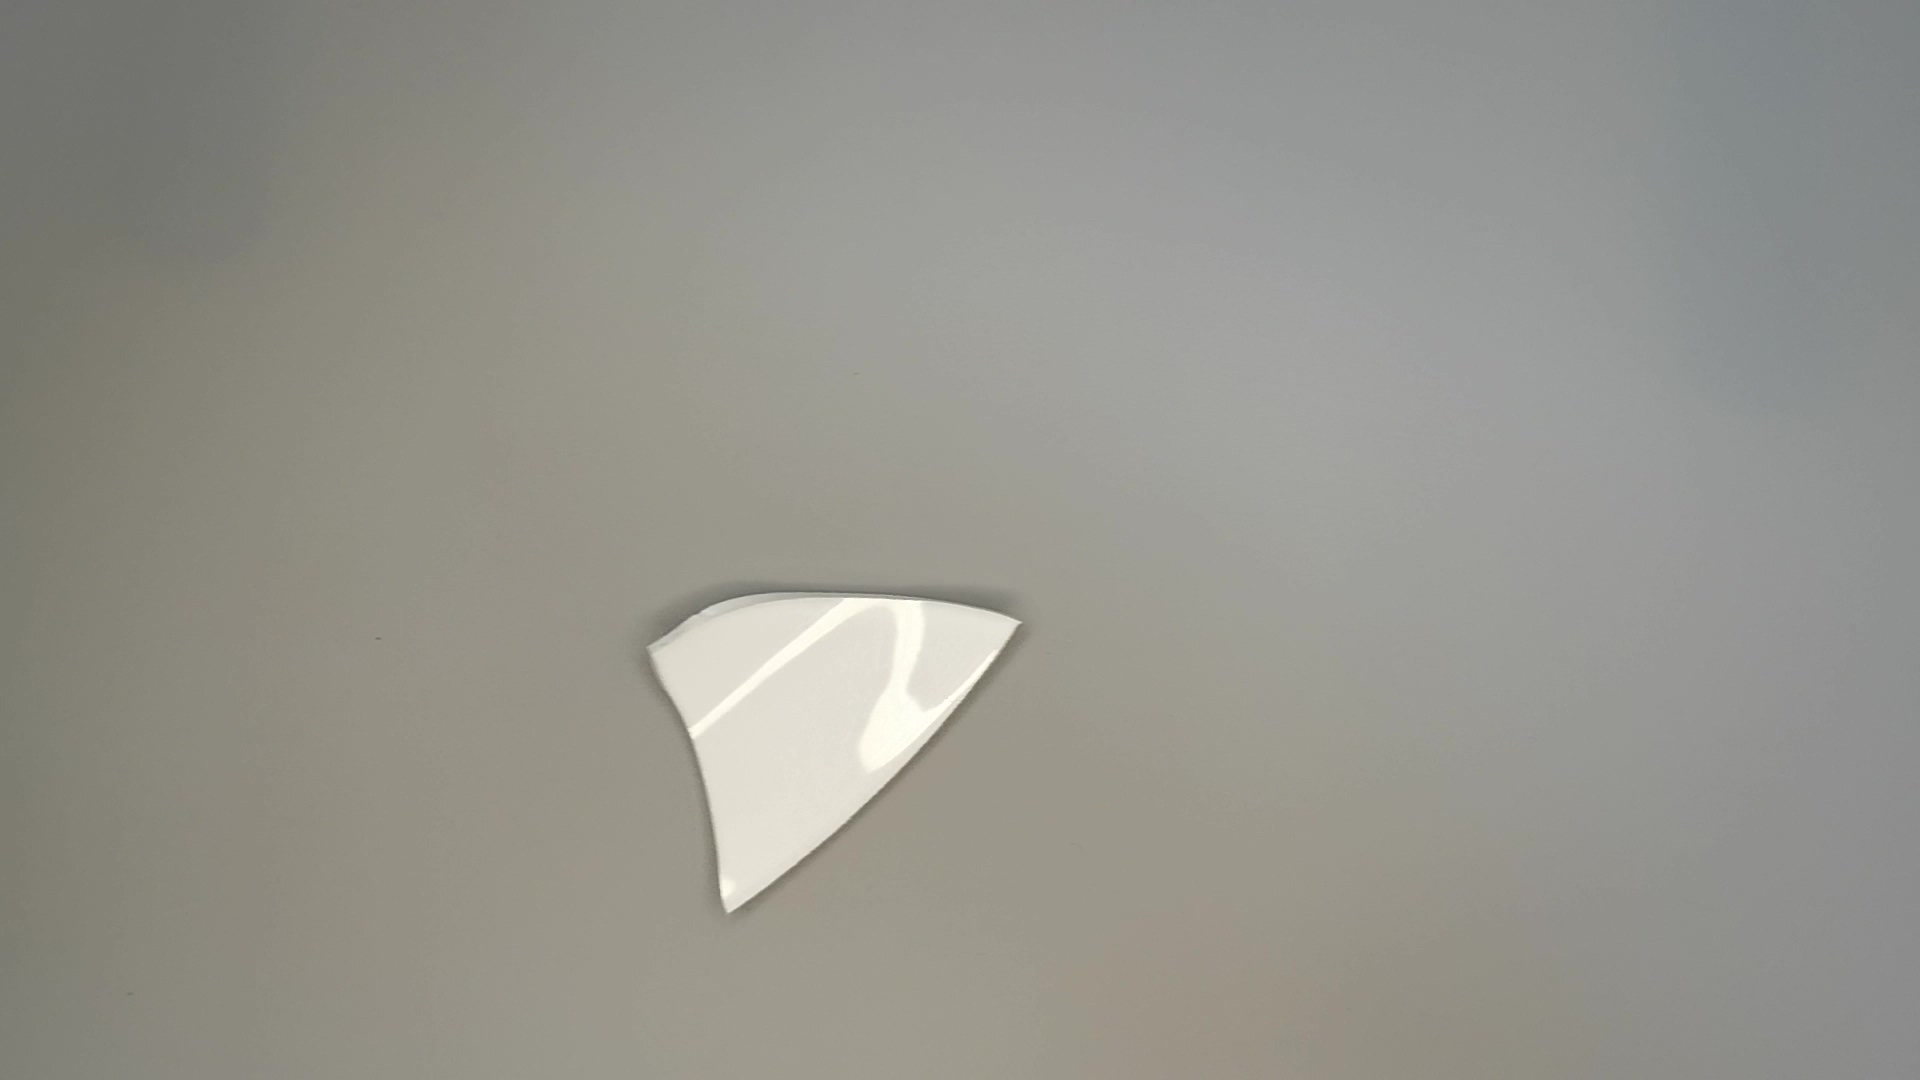ceramic: (644, 585, 1029, 927)
